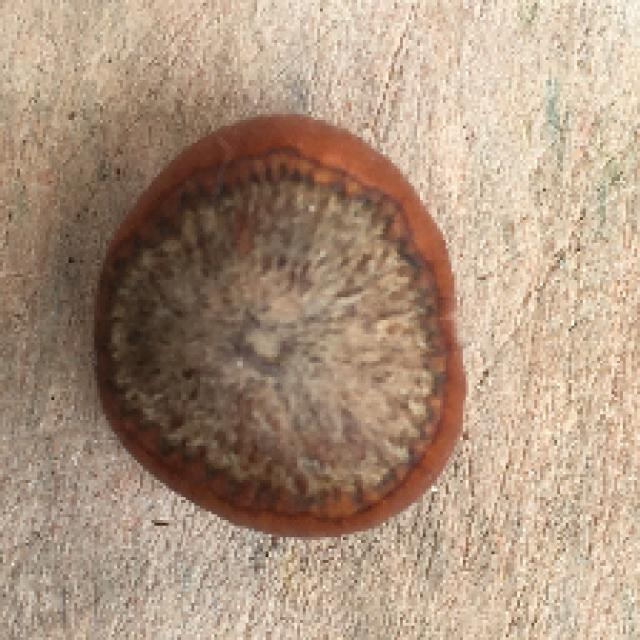qualityHazelnut: (84, 110, 470, 540)
